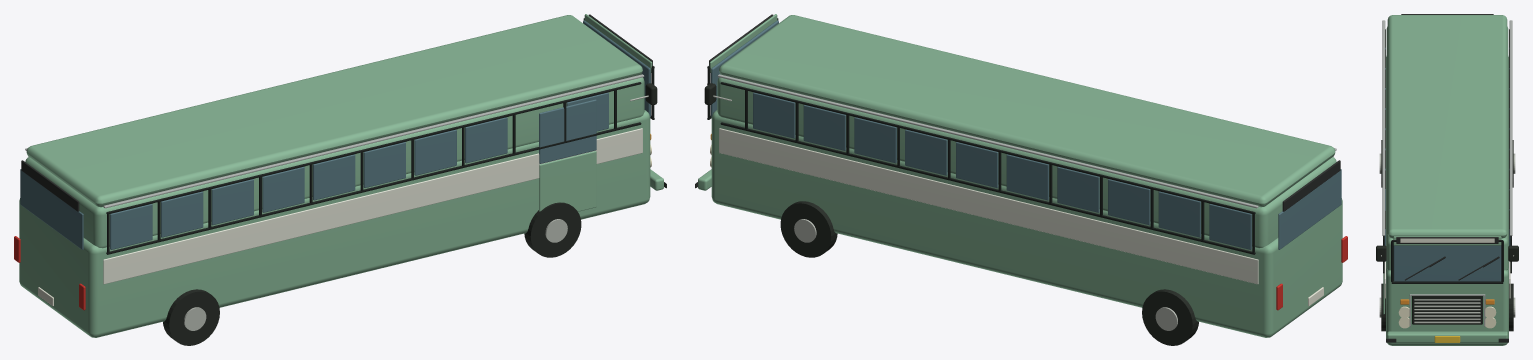
Rendered from tnstc_bus_refined.glb.
3 renders of one model, left to right at view 1: azimuth 30°, elevation 25°; view 2: azimuth 150°, elevation 25°; view 3: azimuth 270°, elevation 25°, orthographic. The views are drawn at different scales.
Visible parts, largest first — view 1: Rounded_roof, Bus_lower_shell, Cream_livery_stripe, Bus_window_upper_shell, Front_passenger_door_lower, Front_passenger_door_glass, Rear_glass, Side_upper_rain_gutter, Rubber_wheel, Rubber_wheel002, Long_window_bottom_rubber, Long_window_top_rubber (+12 smaller); view 2: Rounded_roof, Bus_lower_shell, Cream_livery_stripe001, Bus_window_upper_shell, Rear_glass, Side_upper_rain_gutter001, Rubber_wheel003, Rubber_wheel001, Long_window_bottom_rubber001, Long_window_top_rubber001, Side_window011, Side_window009 (+11 smaller); view 3: Rounded_roof, Bus_lower_shell, Curved_front_windshield, Front_grille_backing, Front_bumper, Bus_window_upper_shell, Side_upper_rain_gutter, Side_upper_rain_gutter001, Destination_route_display, Destination_header, Front_destination_board_black_recess, Windshield_rubber_upper_lower (+14 smaller).
Boxes of the visible parts, box(x1,y1,x2,y2) form: Rounded_roof: box(26, 15, 642, 207); Bus_lower_shell: box(19, 110, 650, 337); Cream_livery_stripe: box(103, 128, 642, 284); Bus_window_upper_shell: box(25, 77, 644, 248); Front_passenger_door_lower: box(539, 151, 596, 211); Front_passenger_door_glass: box(539, 99, 596, 163); Rear_glass: box(20, 169, 83, 249); Side_upper_rain_gutter: box(103, 74, 644, 208); Rubber_wheel: box(163, 289, 219, 345); Rubber_wheel002: box(524, 202, 581, 257); Long_window_bottom_rubber: box(106, 122, 641, 254); Long_window_top_rubber: box(106, 82, 641, 214); Rounded_roof: box(719, 15, 1335, 207); Bus_lower_shell: box(711, 110, 1342, 337); Cream_livery_stripe001: box(719, 128, 1258, 284); Bus_window_upper_shell: box(717, 77, 1336, 248); Rear_glass: box(1278, 169, 1341, 249); Side_upper_rain_gutter001: box(717, 74, 1258, 208); Rubber_wheel003: box(780, 201, 837, 257); Rubber_wheel001: box(1142, 289, 1198, 345); Long_window_bottom_rubber001: box(720, 122, 1255, 254); Long_window_top_rubber001: box(720, 82, 1255, 214); Side_window011: box(1108, 179, 1150, 225); Side_window009: box(1209, 204, 1251, 249); Rounded_roof: box(1387, 15, 1507, 238); Bus_lower_shell: box(1386, 56, 1508, 345); Curved_front_windshield: box(1393, 245, 1501, 281); Front_grille_backing: box(1412, 296, 1482, 324); Front_bumper: box(1387, 331, 1507, 342); Bus_window_upper_shell: box(1386, 26, 1508, 270); Side_upper_rain_gutter: box(1382, 20, 1385, 235); Side_upper_rain_gutter001: box(1509, 20, 1512, 235); Destination_route_display: box(1400, 238, 1494, 242); Destination_header: box(1393, 236, 1501, 245); Front_destination_board_black_recess: box(1396, 237, 1498, 243); Windshield_rubber_upper_lower: box(1391, 281, 1503, 283).
Bounding box in the file's own units: 10.83 × 2.94 × 2.81.
